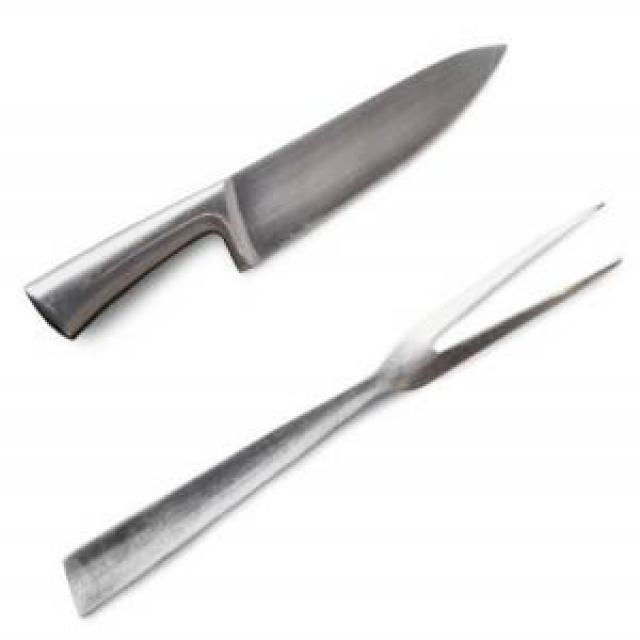knife: (26, 42, 508, 344)
